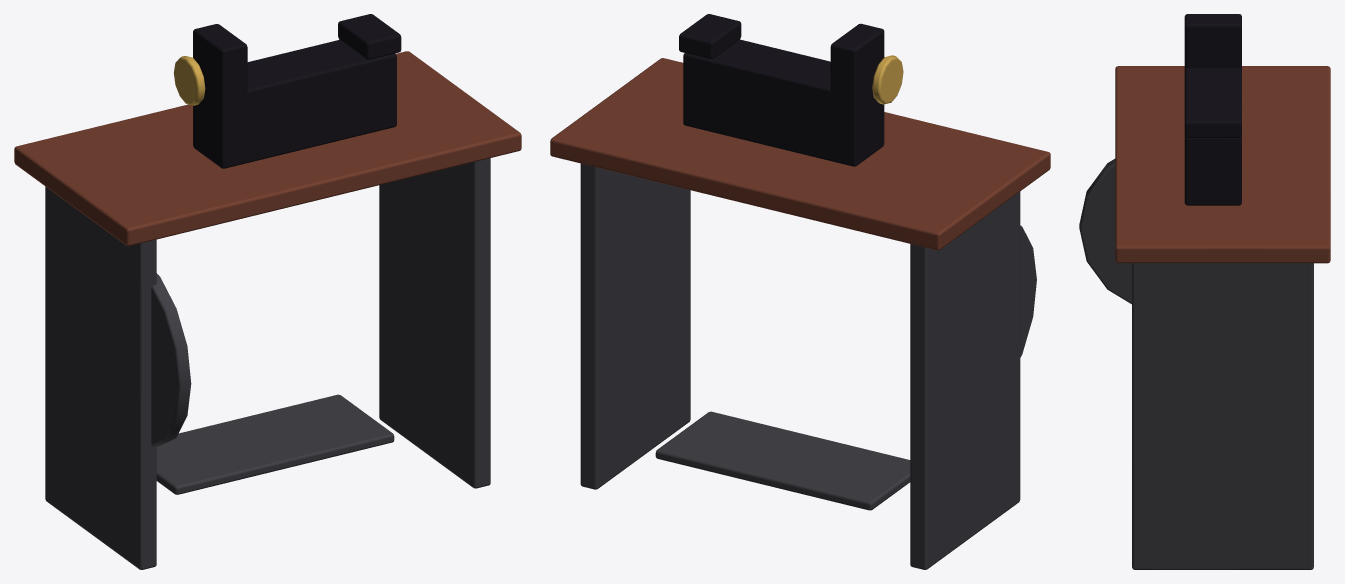
Rendered from SM_PRP_MaquinaCostura.fbx.
The picture shows the model from 3 angles, left to right: view 1: azimuth 30°, elevation 25°; view 2: azimuth 150°, elevation 25°; view 3: azimuth 270°, elevation 25°; orthographic projection. The views are drawn at different scales.
Parts seen in each view (by area): view 1: SM_PRP_MaquinaCostura; view 2: SM_PRP_MaquinaCostura; view 3: SM_PRP_MaquinaCostura.
Part boxes in pixels (x1,y1,x2,y2): SM_PRP_MaquinaCostura: (14,14,521,569); SM_PRP_MaquinaCostura: (550,14,1050,569); SM_PRP_MaquinaCostura: (1079,14,1330,569).
Bounding box in the file's own units: 0.9 × 1.03 × 0.525.
